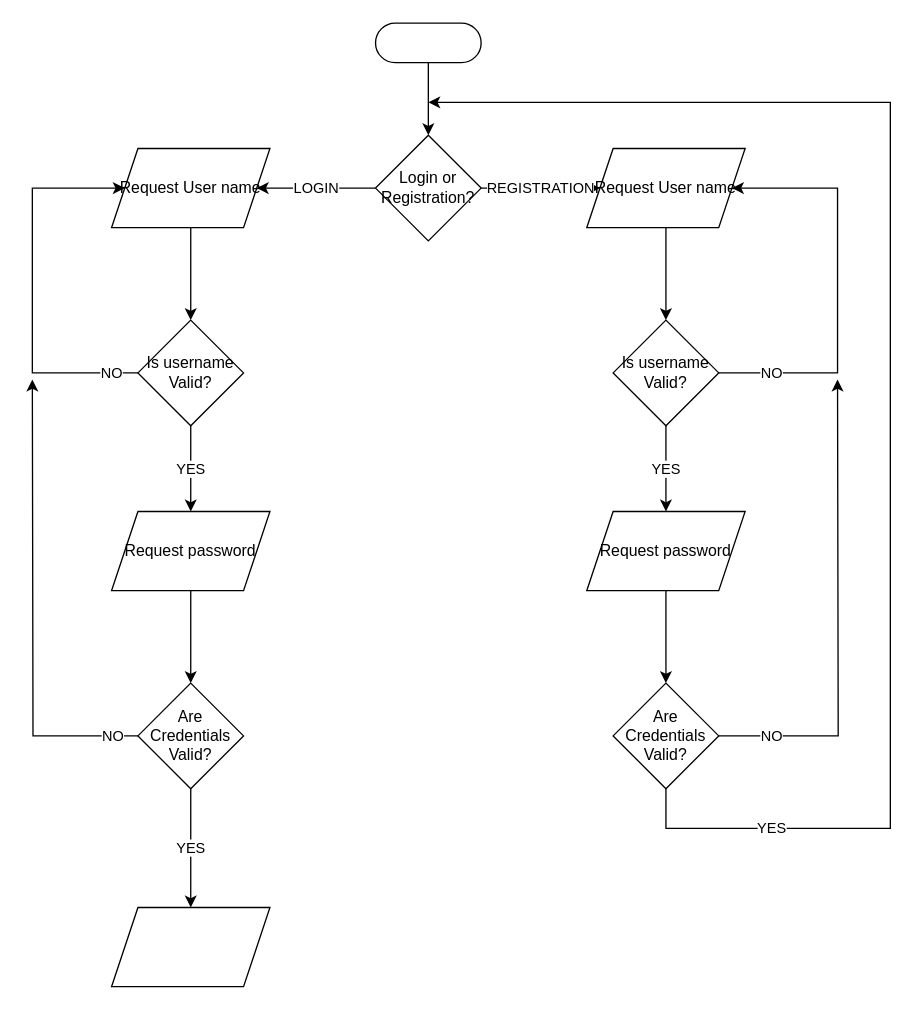
This 924x1010 diagram has some shape labels left out. The shapes that lost their labels are listed below. From the top down, each one's centre as x and y in pixels, then its label:
At (427,42): "Start".
At (190,946): "Show success".
